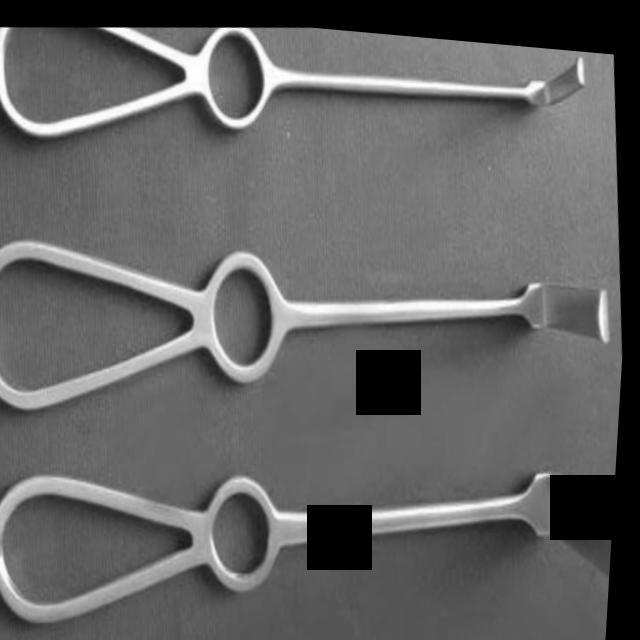Langenbach Retractor: (0, 178, 632, 460), (0, 407, 621, 640), (0, 0, 608, 176)
